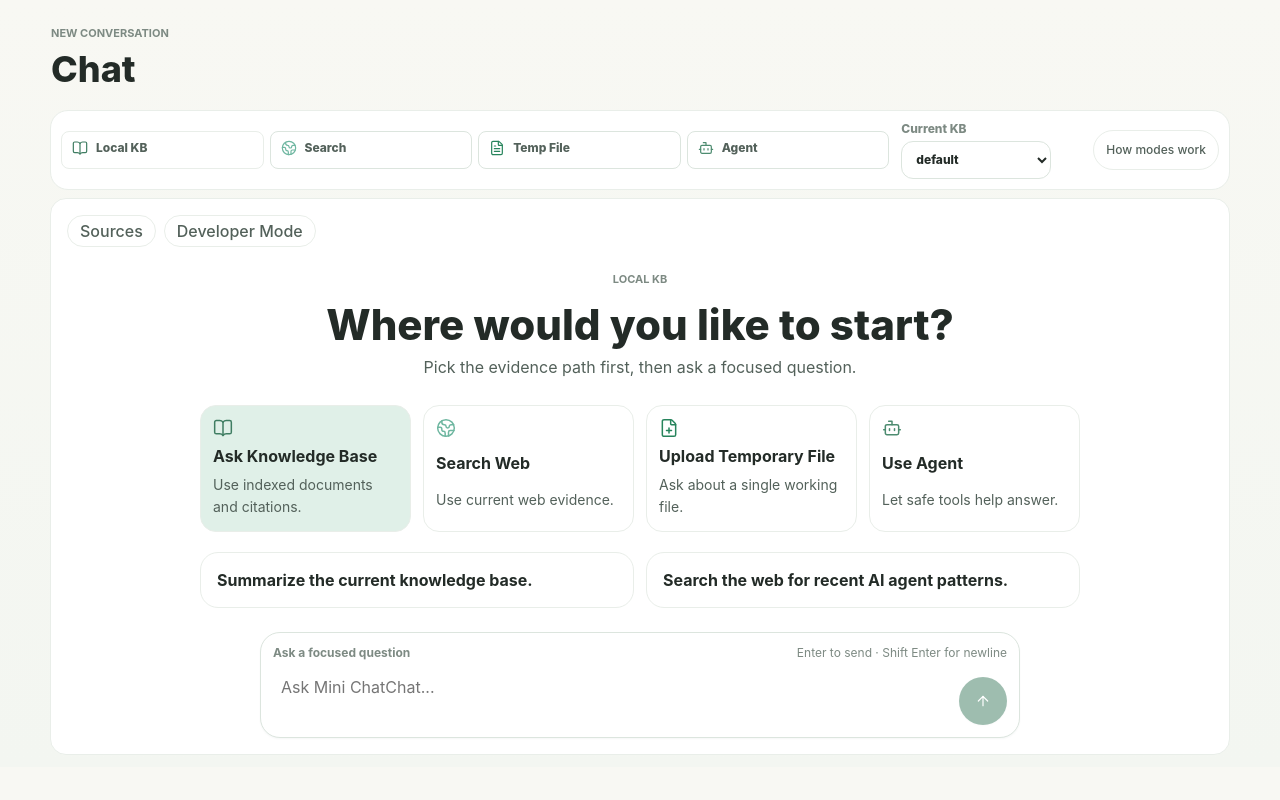
onboarding and first-run guidance › Developer Mode intro supports cancel and confirm
Click the button "Developer Mode" at (240,231), box [164,215,316,247]
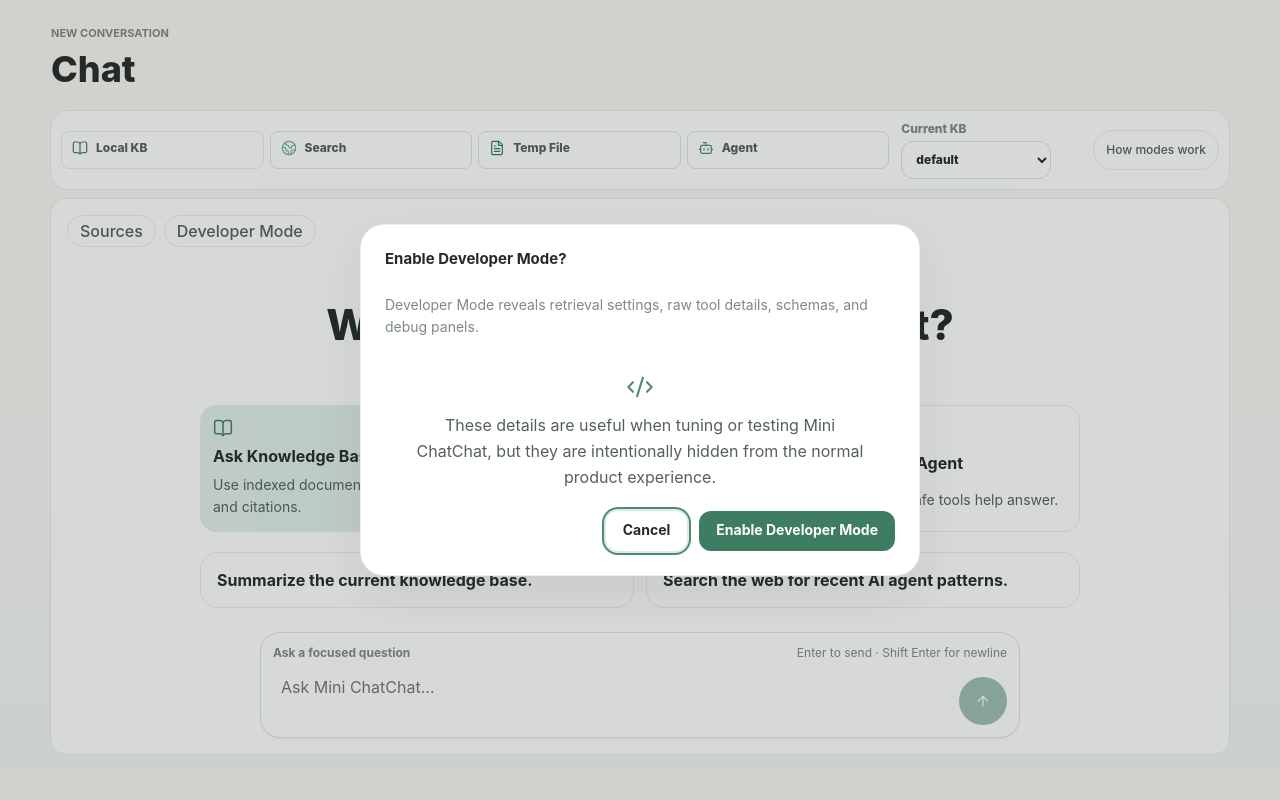
Result: the heading "Enable Developer Mode?" is shown at [385,249,567,268]
Click the button "Cancel" at (647,531), box [606,511,687,551]
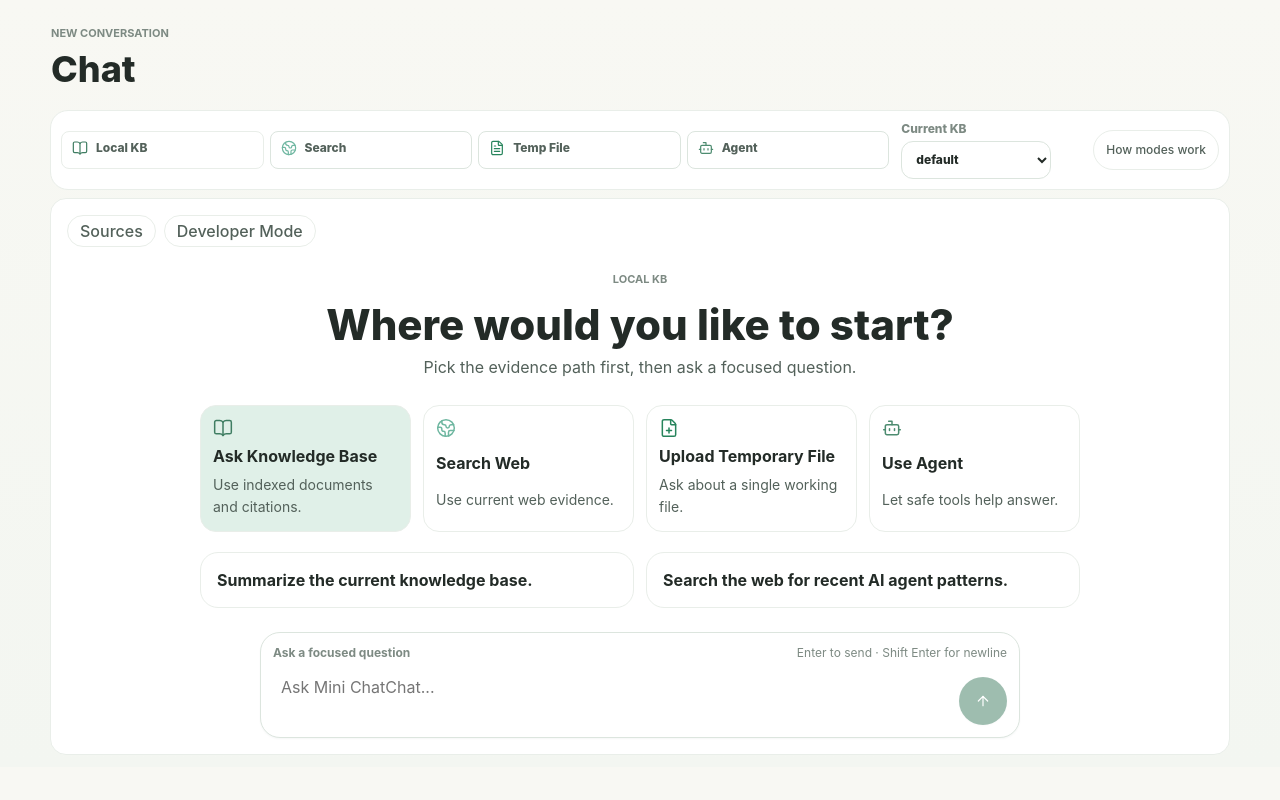
Result: the heading "Enable Developer Mode?" is gone
Click the button "Developer Mode" at (240,231), box [164,215,316,247]
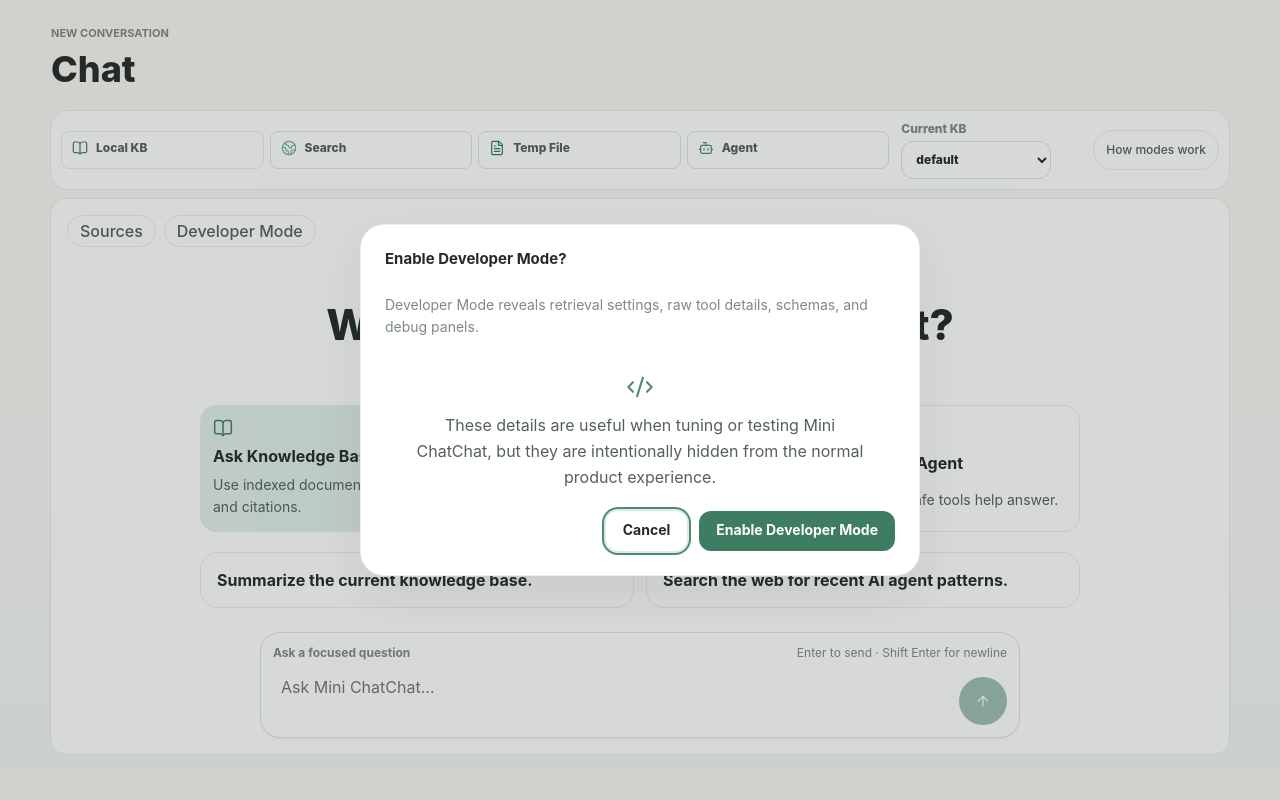
Click the button "Enable Developer Mode" at (797,531), box [699,511,895,551]
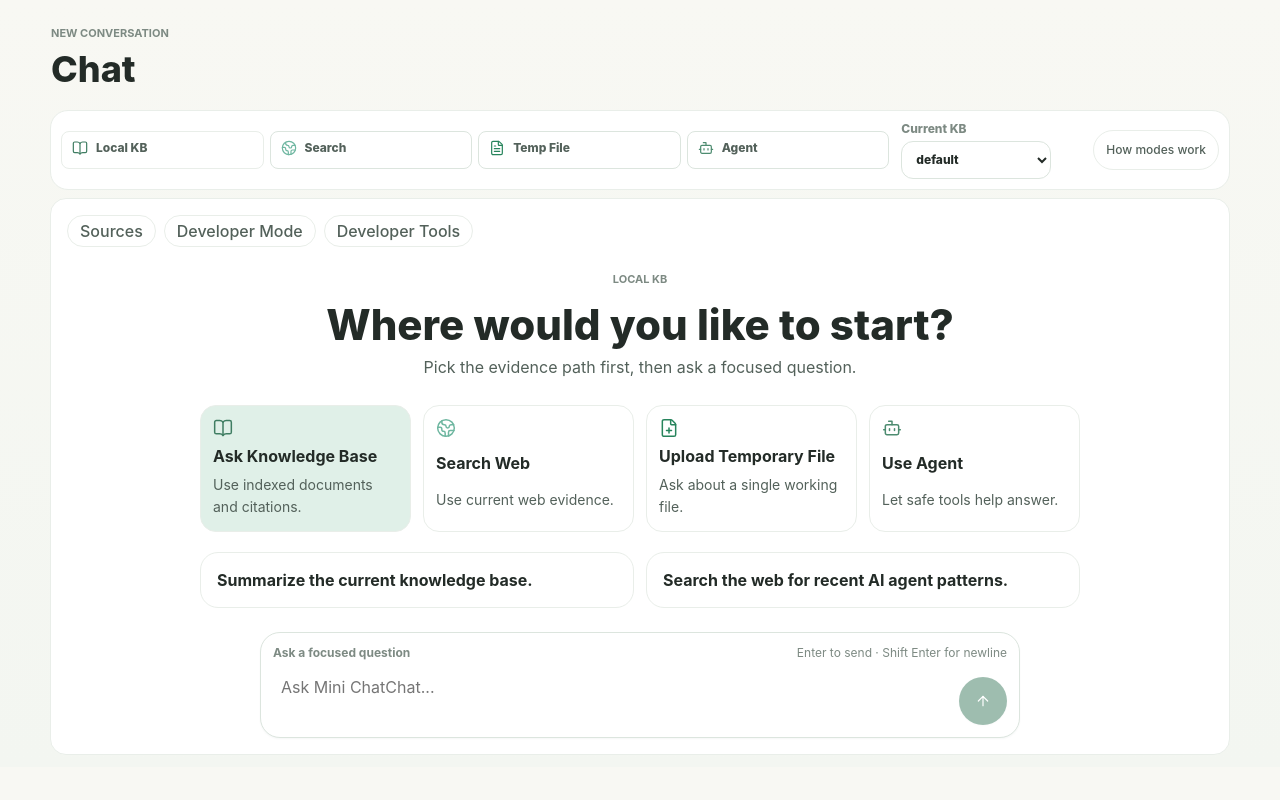
Result: the button "Developer Tools" is shown at [324,215,473,247]
